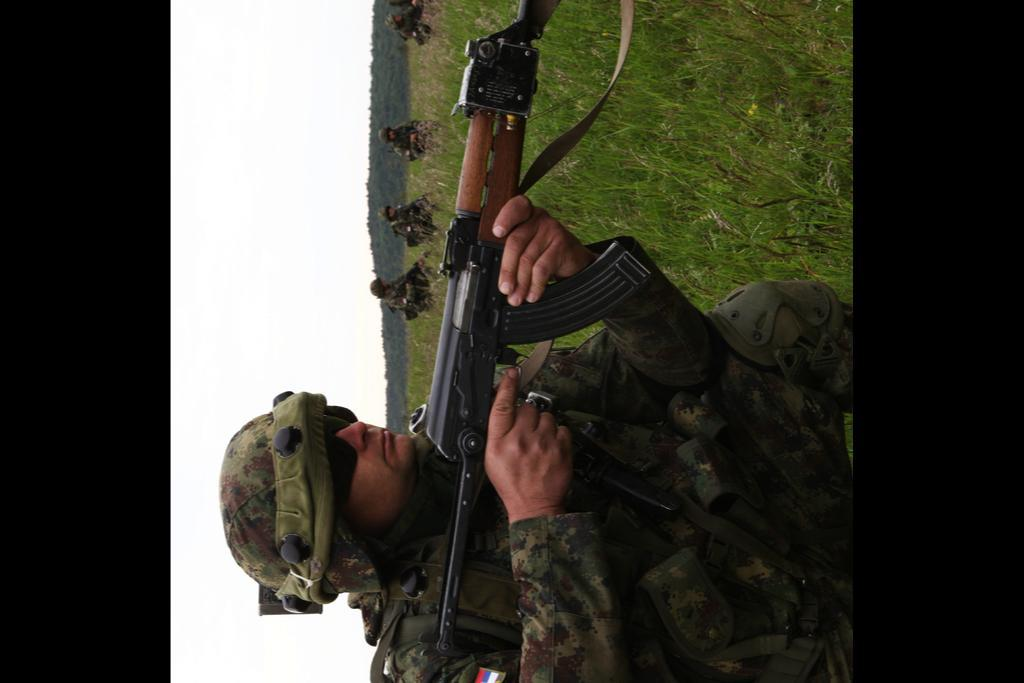gun: (422, 0, 652, 633)
